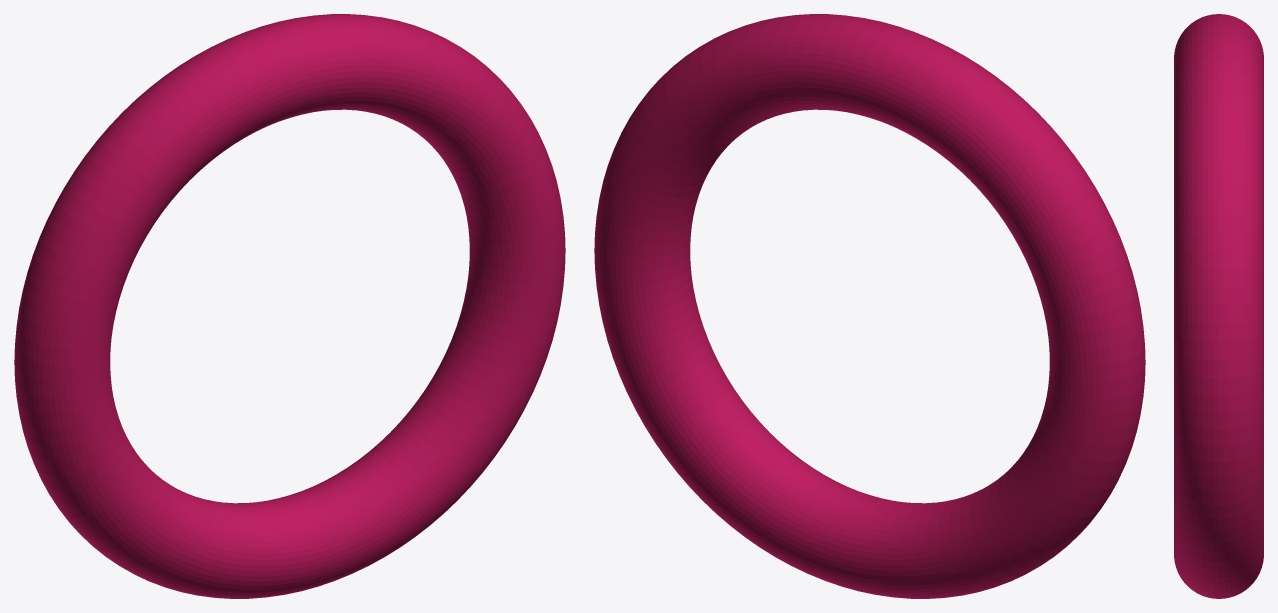
3 renders of one model, left to right at view 1: azimuth 30°, elevation 25°; view 2: azimuth 150°, elevation 25°; view 3: azimuth 270°, elevation 25°, orthographic. The views are drawn at different scales.
Parts seen in each view (by area): view 1: world; view 2: world; view 3: world.
Boxes of the visible parts, bbox=[...] form: world: bbox=[14, 14, 565, 598]; world: bbox=[594, 14, 1145, 598]; world: bbox=[1174, 14, 1263, 598].
Bounding box in the file's own units: 35.47 × 35.47 × 5.46.
